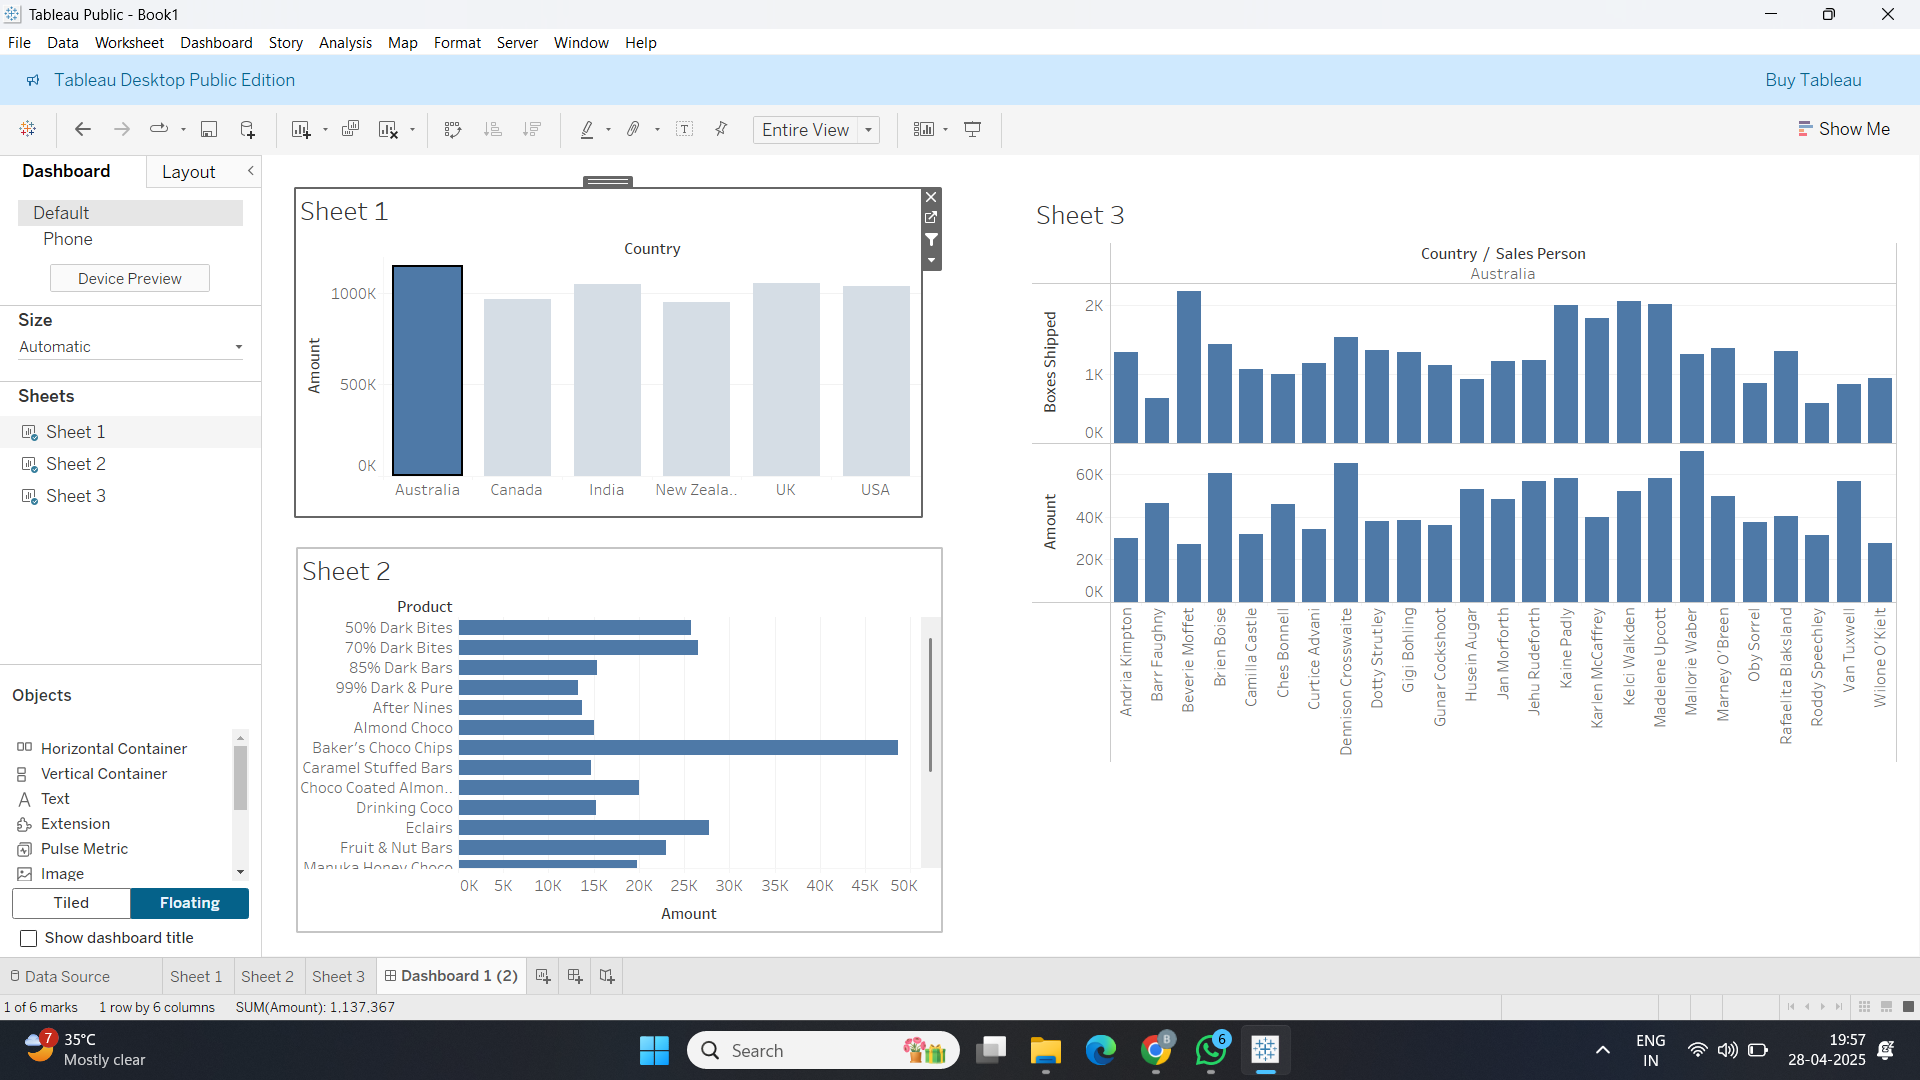

The page's visual inventory and layout, read from the dashboard file:
{"tool":"tableau","page":{"name":"Dashboard 1 (2)","canvas":[1000,1000],"units":"permille","ordinal":0},"visuals":[{"type":"worksheet","title":"Sheet 1","mark":"Automatic","rows":["Amount"],"cols":["Country"],"box":[20.5,42.5,377.2,408.2]},{"type":"worksheet","title":"Sheet 3","mark":"Automatic","rows":["Boxes Shipped","Amount"],"cols":["Country","Sales Person"],"box":[464.7,47.4,522,711.6]},{"type":"worksheet","title":"Sheet 2","mark":"Automatic","rows":["Product"],"cols":["Amount"],"box":[21.7,491.9,388.1,476.9]}]}

Visuals, with their boxes on the dashboard's canvas, which has no fixed pixel size, in thousandths of its width and height (x1, y1, x2, y2). These are canvas units, not pixel positions in the 1920x1080 screenshot, which may show the page scaled, cropped or inside an application window:
"Sheet 1" worksheet: bbox=[20, 42, 398, 451]
"Sheet 3" worksheet: bbox=[465, 47, 987, 759]
"Sheet 2" worksheet: bbox=[22, 492, 410, 969]
